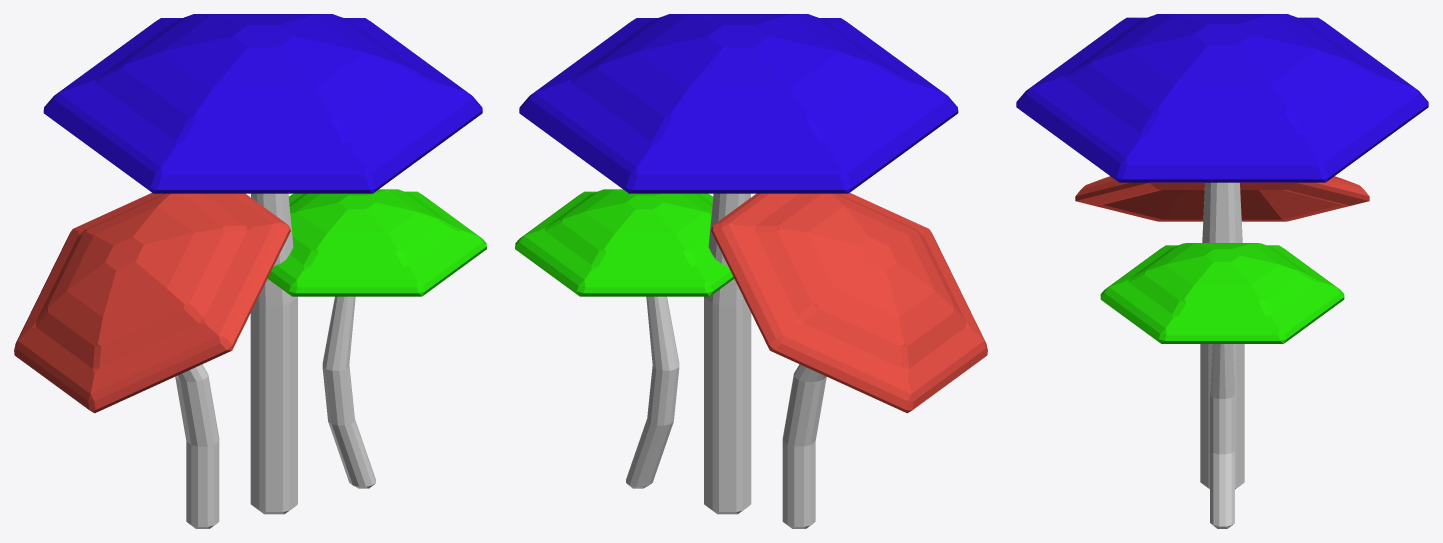
Rendered from Mushroom_03Normal.fbx.
The picture shows the model from 3 angles, left to right: view 1: azimuth 30°, elevation 25°; view 2: azimuth 150°, elevation 25°; view 3: azimuth 270°, elevation 25°; orthographic projection. The views are drawn at different scales.
Parts seen in each view (by area): view 1: Mushroom_03Normal; view 2: Mushroom_03Normal; view 3: Mushroom_03Normal.
Boxes of the visible parts, <box> form: Mushroom_03Normal: <box>14,14,486,528</box>; Mushroom_03Normal: <box>515,14,987,528</box>; Mushroom_03Normal: <box>1016,14,1428,528</box>.
Size of the model in its own units: 72.25 by 80.87 by 68.01.
